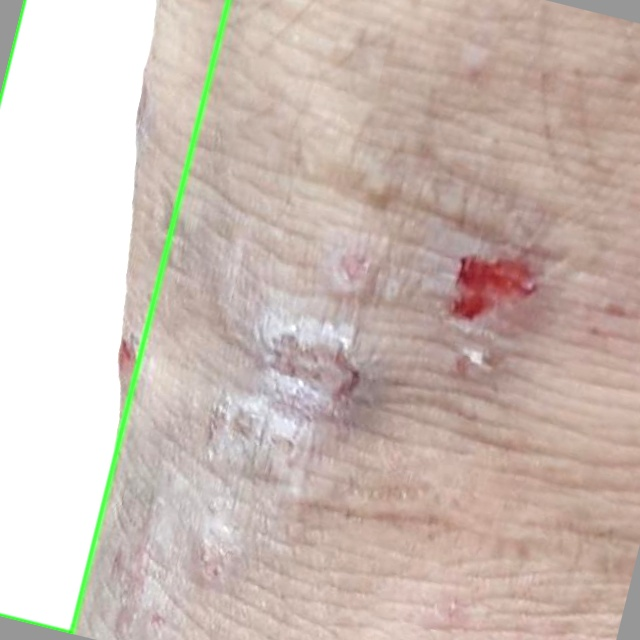Eczema: (0, 0, 228, 632)
